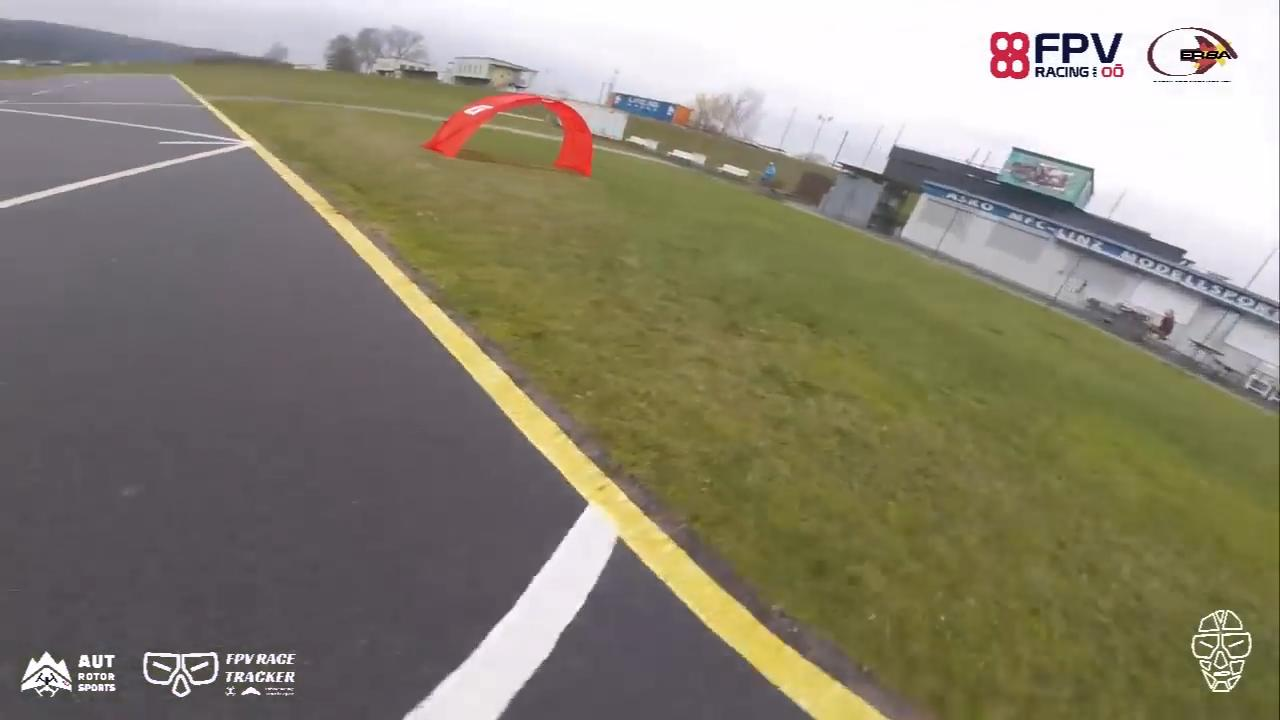gate: (420, 87, 598, 180)
